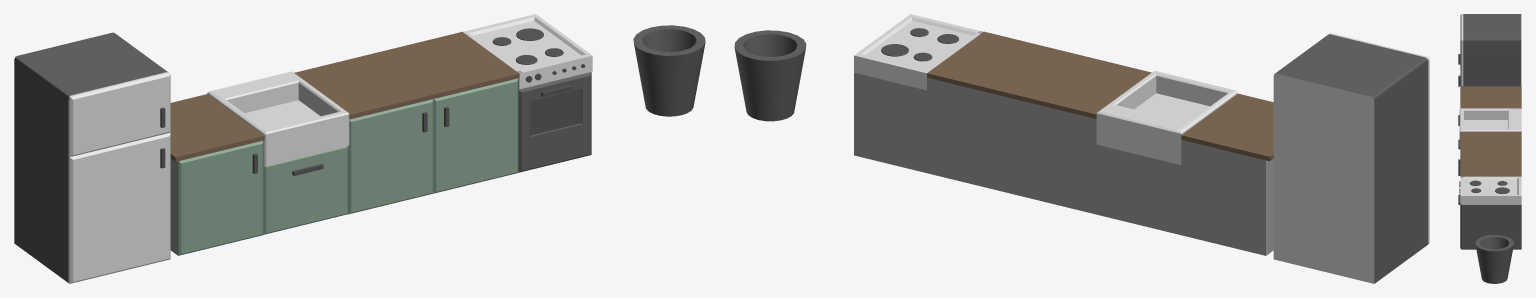
The model's file is Kitchen.fbx.
The picture shows the model from 3 angles, left to right: view 1: azimuth 30°, elevation 25°; view 2: azimuth 150°, elevation 25°; view 3: azimuth 270°, elevation 25°; orthographic projection. The views are drawn at different scales.
Visible parts, largest first — view 1: KitchenCabinets, Fridge, GarbageCan; view 2: KitchenCabinets, Fridge, GarbageCan; view 3: KitchenCabinets, Fridge, GarbageCan, Stove2, Stove1.
Boxes of the visible parts, box(x1,y1,x2,y2) form: KitchenCabinets: box(170, 14, 592, 255); Fridge: box(14, 32, 170, 283); GarbageCan: box(633, 25, 705, 116); KitchenCabinets: box(854, 14, 1273, 255); Fridge: box(1273, 33, 1429, 283); GarbageCan: box(734, 30, 806, 121); KitchenCabinets: box(1459, 86, 1521, 249); Fridge: box(1460, 14, 1521, 86); GarbageCan: box(1475, 235, 1513, 283); Stove2: box(1495, 187, 1509, 194); Stove1: box(1469, 180, 1481, 185).
Size of the model in its own units: 9.49 by 2.56 by 1.46.
